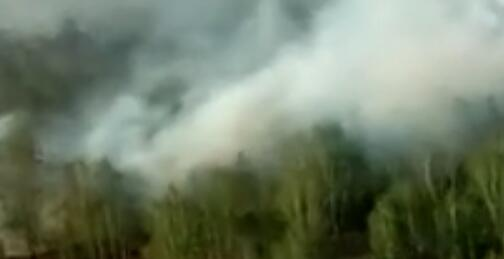yanwu: (32, 0, 503, 192)
